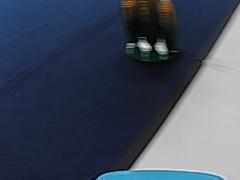corn: (119, 0, 183, 65)
